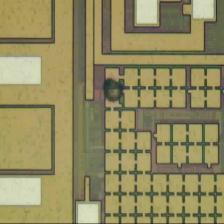PARTICLE: (101, 78, 129, 106)
